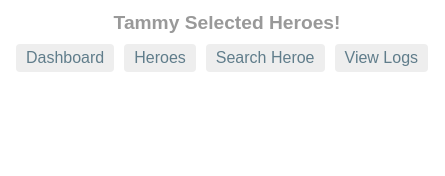
Test: Testing Search › Navigate to Search
Click the link to "/search".
click(266, 58)  # box [206,44,325,72]
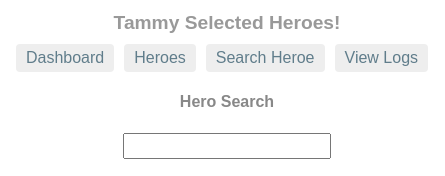
Now the field with id "search-box" is empty, box [123,133,331,159]
Now the field with id "search-box" is enabled, box [123,133,331,159]
Now the heading "Hero Search" is shown, box [180,93,274,110]
